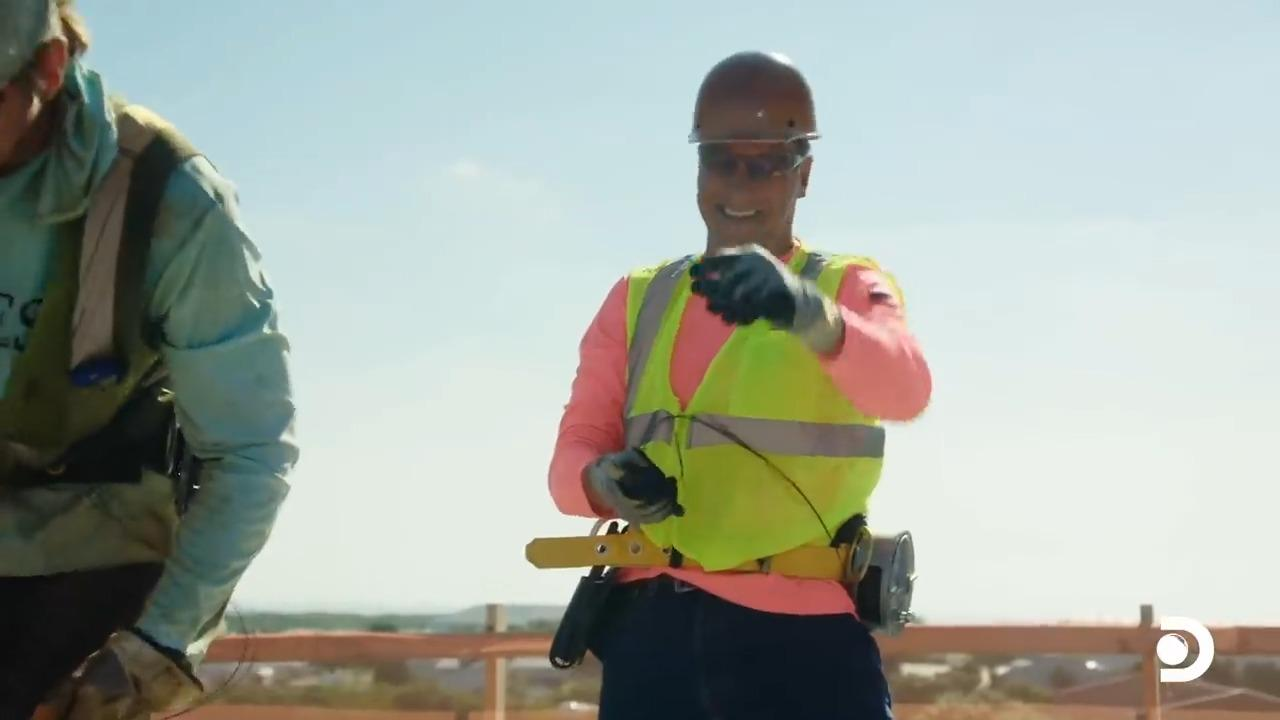Gloves: (598, 437, 694, 526), (689, 235, 788, 320)
Helmet: (687, 49, 820, 145)
Person: (546, 49, 932, 719), (0, 1, 299, 718)
Safety Boot: (34, 638, 203, 720)
Safety Vest: (622, 284, 880, 587), (0, 187, 190, 520)
